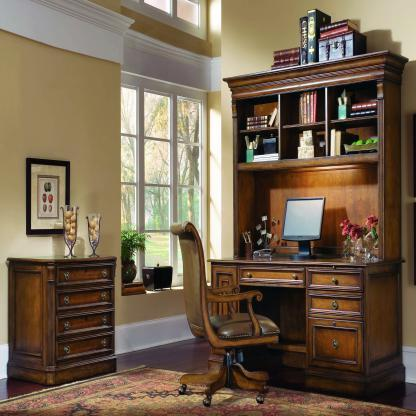chair: (170, 217, 282, 409)
table: (206, 256, 402, 384)
